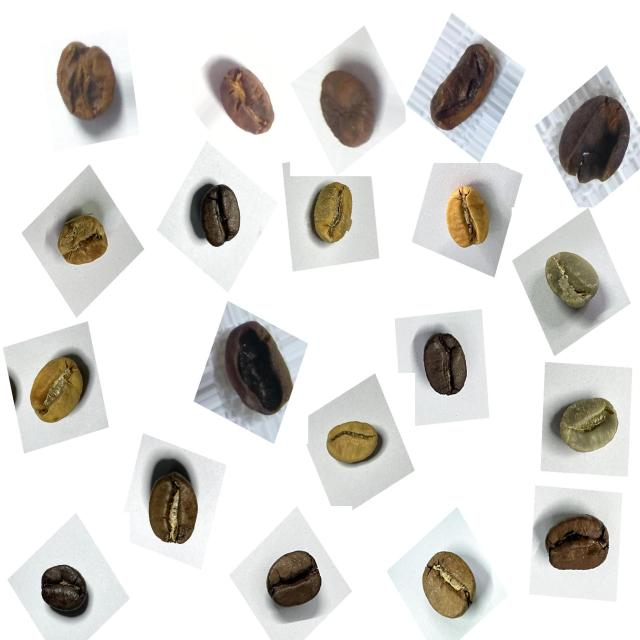bad: (212, 308, 305, 426), (547, 82, 637, 197), (424, 32, 509, 142), (41, 29, 127, 133), (308, 49, 387, 156), (210, 56, 286, 150)
dark: (258, 539, 332, 623), (413, 323, 481, 411), (186, 172, 254, 259), (32, 552, 98, 629)
green: (549, 382, 629, 471), (533, 241, 611, 325)
light: (21, 338, 97, 436), (432, 177, 500, 262), (49, 202, 120, 280), (302, 177, 368, 259)
medium: (136, 463, 214, 562), (411, 542, 486, 633)
